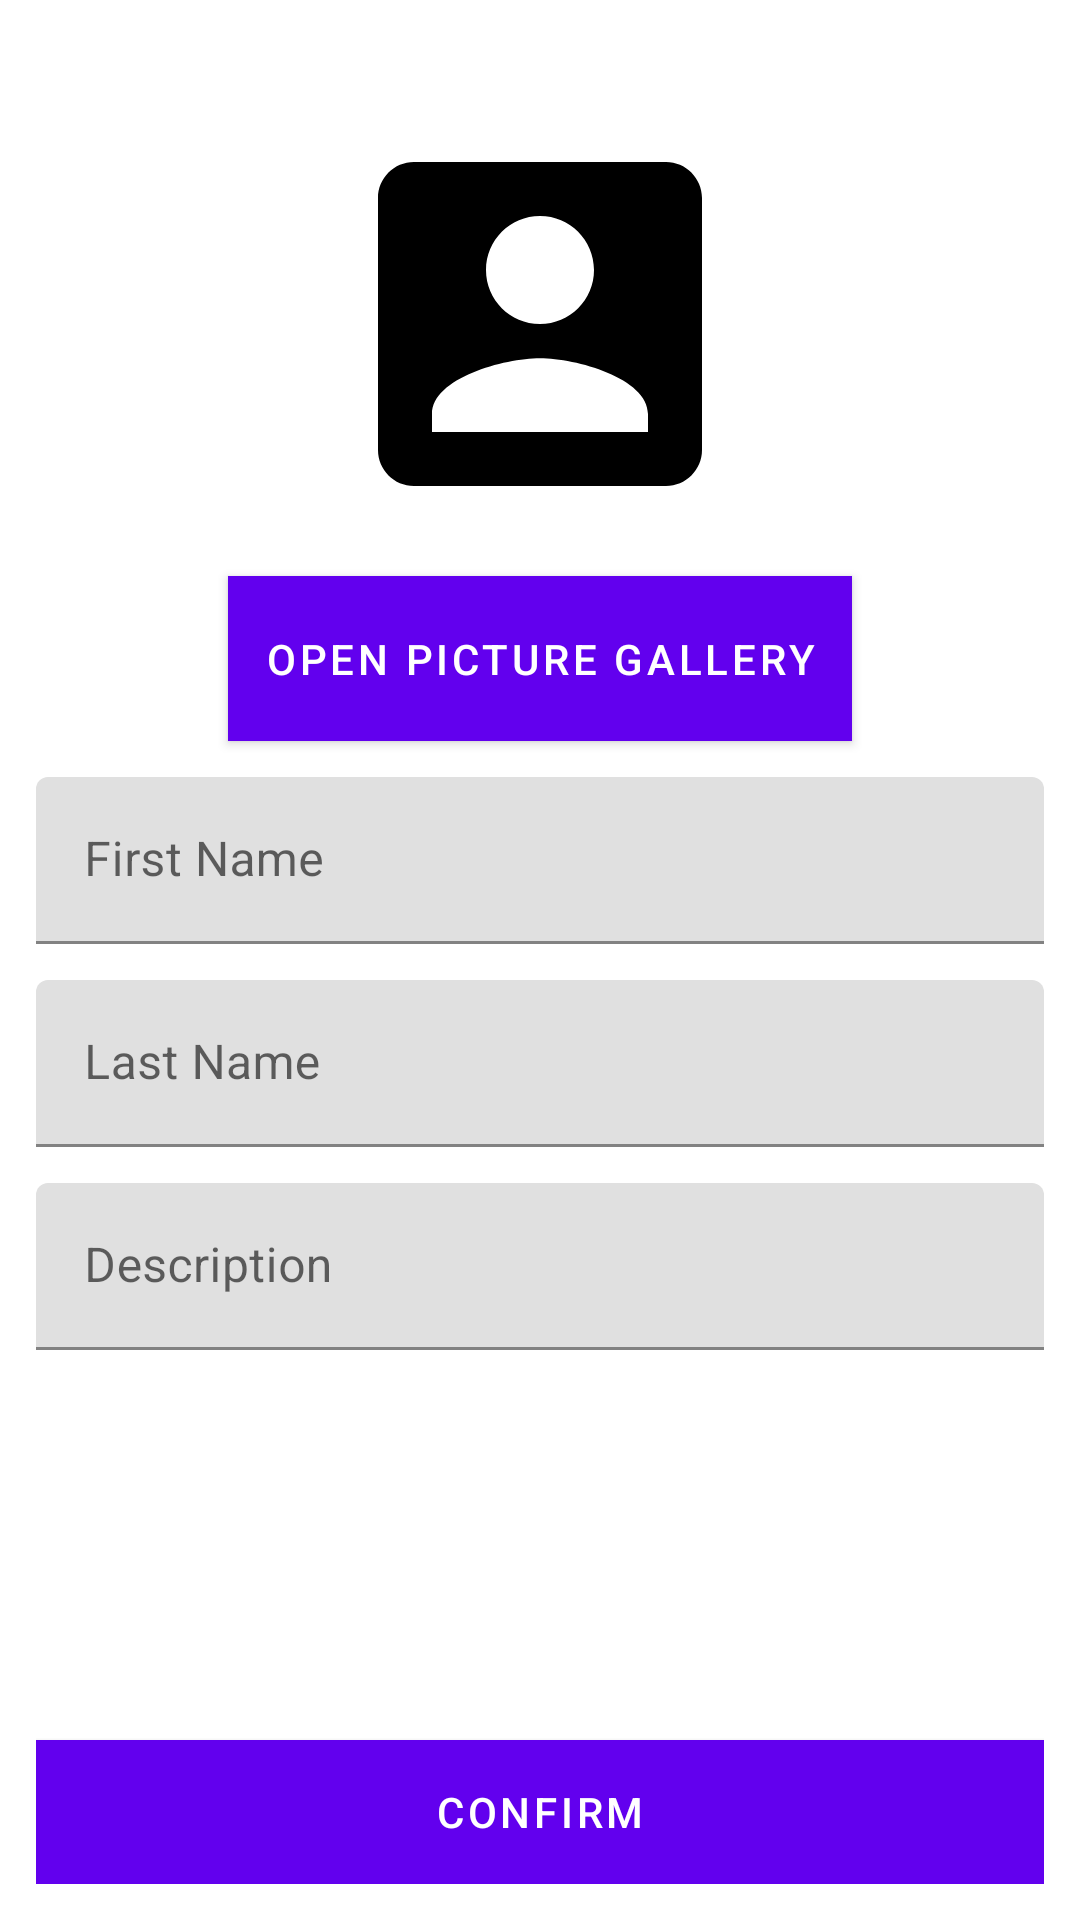

Where to tap for icons on this 1080 × 1920 app screen, as [x,y]:
profile image: [540,324]
